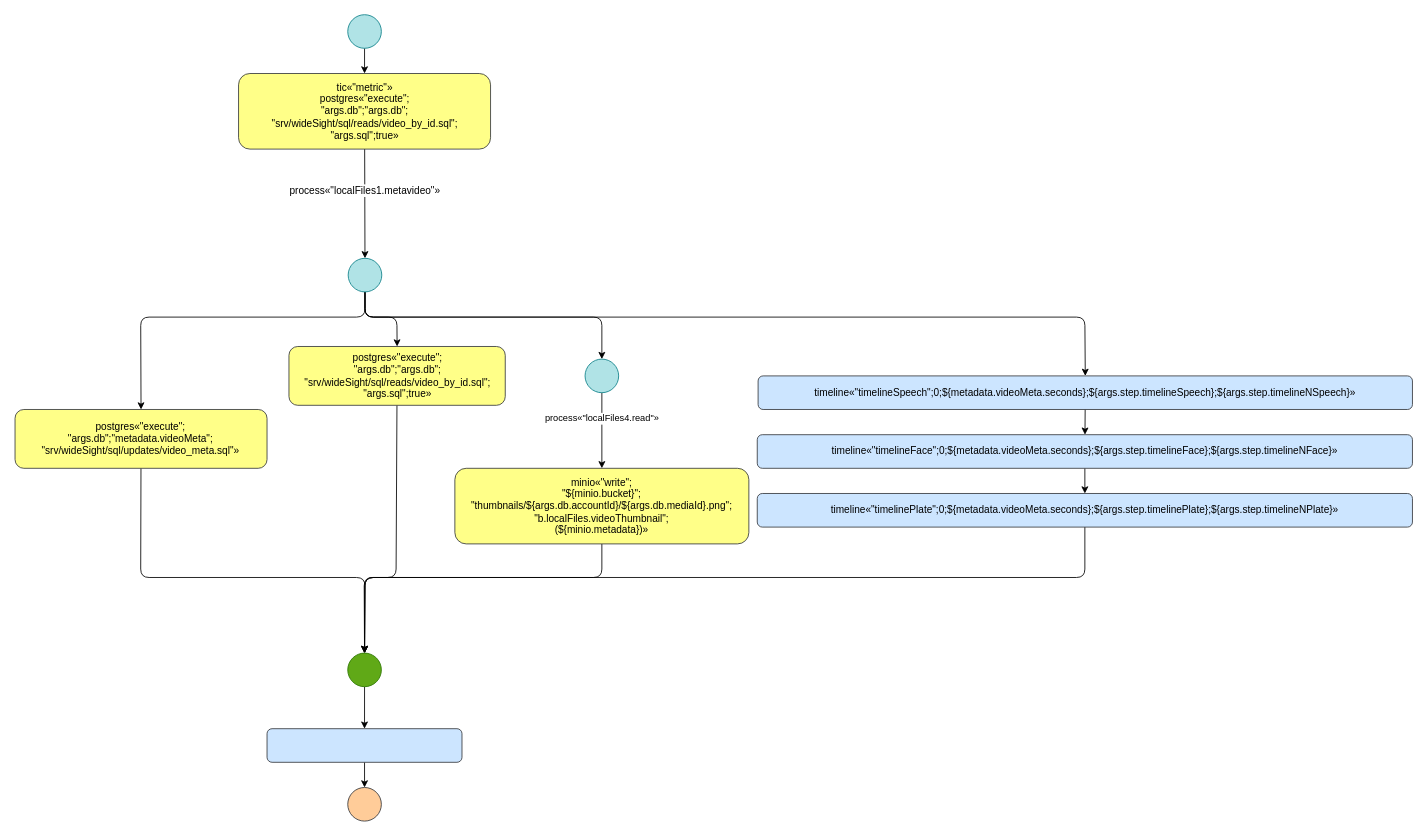
Some shapes in this 1427 by 836 pixel diagram are drawn without their labels. The shapes that lost their labels are listed below. From the top down, each one's box as (x1, y1, x2, y2) in pixels, then its label:
(347, 14, 381, 48): start
(266, 728, 462, 762): set«"scope.config_meta";true»
